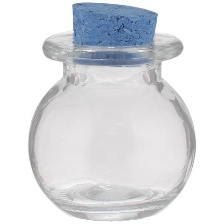bottle: (22, 24, 204, 224)
